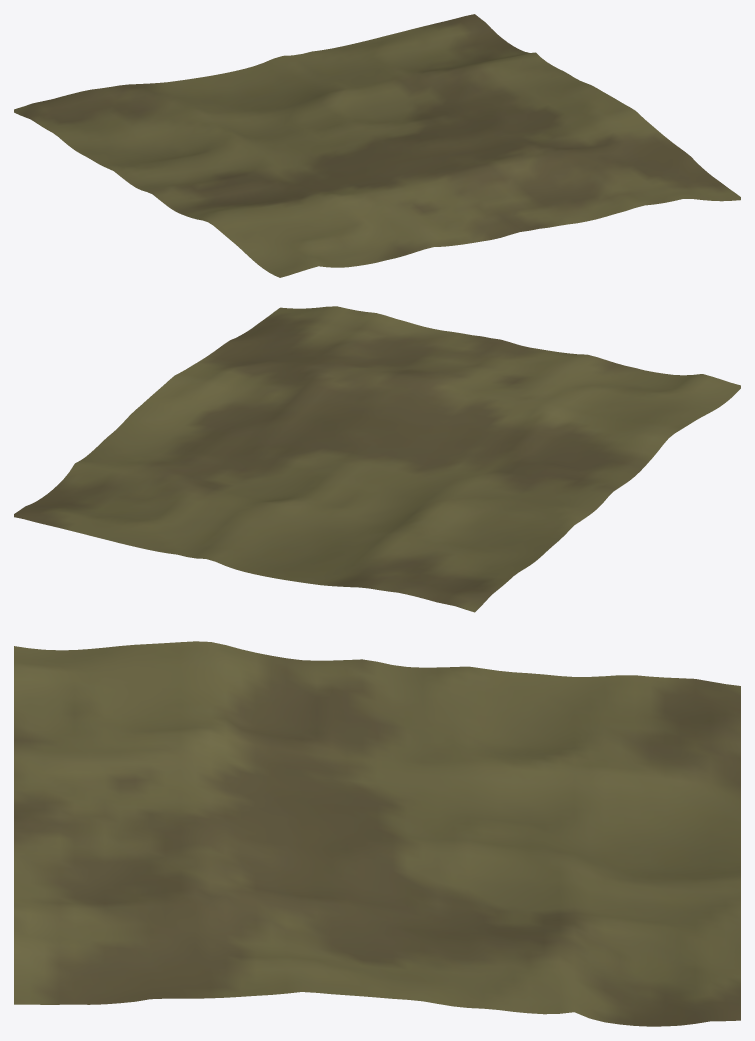
File: land_m_01_11.glb
3 renders of one model, top to bottom at view 1: azimuth 30°, elevation 25°; view 2: azimuth 150°, elevation 25°; view 3: azimuth 270°, elevation 25°, orthographic. The views are drawn at different scales.
Visible parts, largest first — view 1: land_m_01_11; view 2: land_m_01_11; view 3: land_m_01_11.
Part boxes in pixels (bbox=[...]): land_m_01_11: bbox=[14, 14, 740, 277]; land_m_01_11: bbox=[14, 306, 740, 612]; land_m_01_11: bbox=[14, 641, 740, 1026].
Size of the model in its own units: 960 by 114 by 960.
